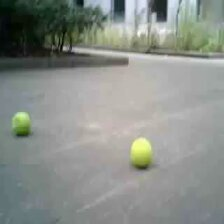tennis: (130, 138, 151, 166), (12, 111, 30, 135)
